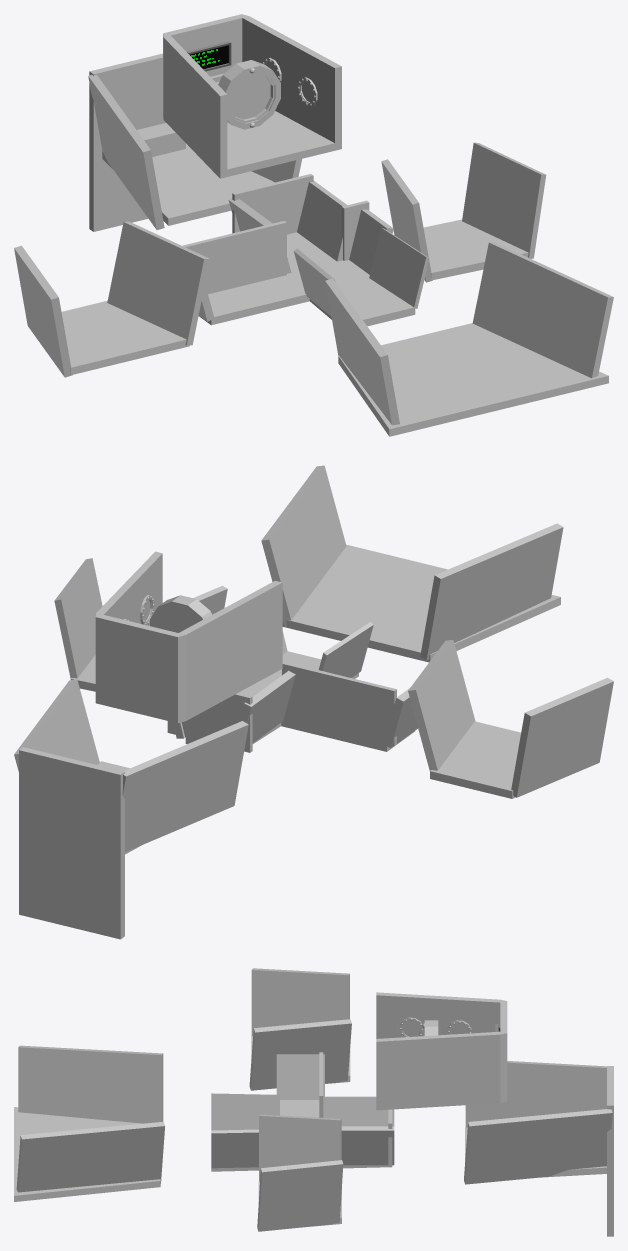
File: BetaControlRoom.obj
3 renders of one model, top to bottom at view 1: azimuth 30°, elevation 25°; view 2: azimuth 150°, elevation 25°; view 3: azimuth 270°, elevation 25°, orthographic. The views are drawn at different scales.
Visible parts, largest first — view 1: mesh, cylindertest, screen, window; view 2: mesh, cylindertest; view 3: mesh, window.
Boxes of the visible parts, bbox=[...] form: mesh: bbox=[14, 14, 613, 436]; cylindertest: bbox=[218, 60, 280, 129]; screen: bbox=[186, 41, 231, 71]; window: bbox=[262, 57, 317, 106]; mesh: bbox=[14, 465, 613, 939]; cylindertest: bbox=[150, 595, 212, 632]; mesh: bbox=[14, 968, 613, 1236]; window: bbox=[399, 1017, 471, 1037].
Bounding box in the file's own units: 8.72 × 4 × 10.89.
2 materials, 1 textured.
